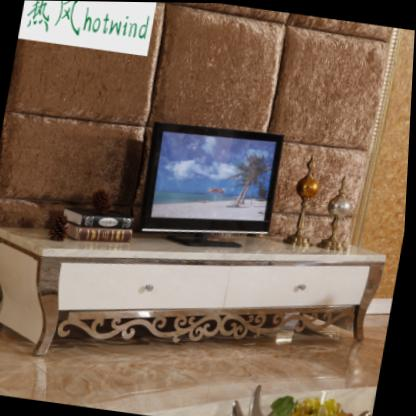Ceramic floor: (0, 312, 392, 416)
TV stand: (0, 192, 384, 398)
